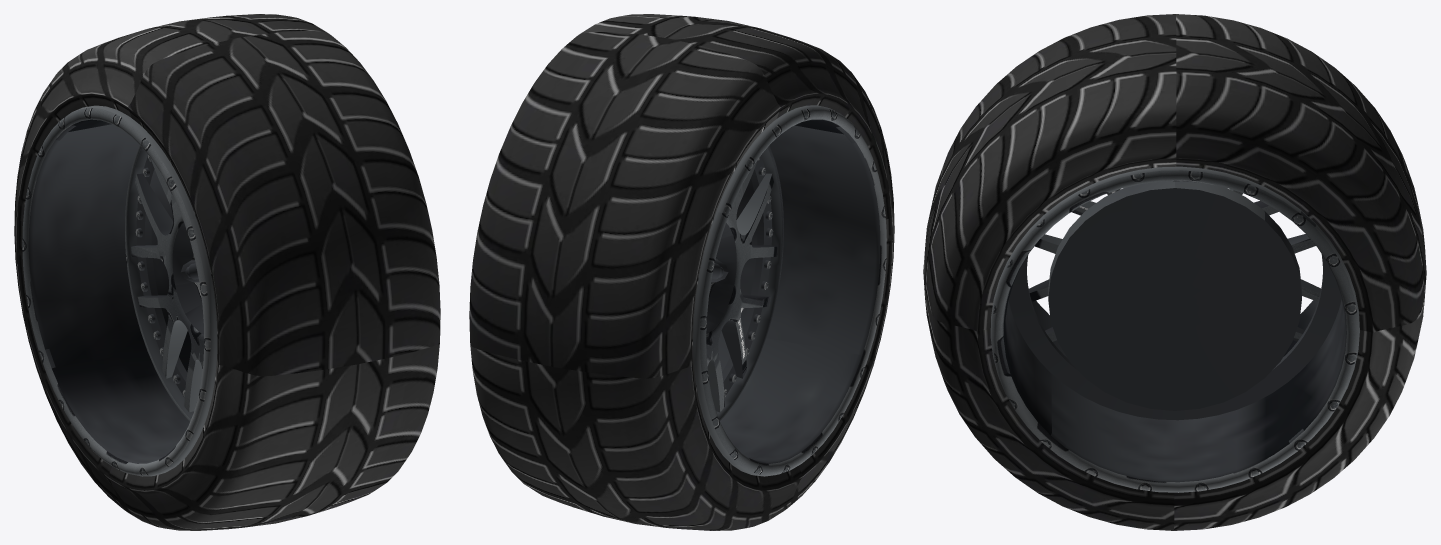
Rendered from Llanta_Delantera_Der.obj.
The picture shows the model from 3 angles, left to right: view 1: azimuth 30°, elevation 25°; view 2: azimuth 150°, elevation 25°; view 3: azimuth 270°, elevation 25°; orthographic projection.
Parts seen in each view (by area): view 1: Llanta_Delantera_Der; view 2: Llanta_Delantera_Der; view 3: Llanta_Delantera_Der.
Boxes of the visible parts, x1,y1,x2,y2 form: Llanta_Delantera_Der: (14,14,440,530); Llanta_Delantera_Der: (469,14,894,530); Llanta_Delantera_Der: (923,14,1426,530).
Bounding box in the file's own units: 1.11 × 2 × 2.
